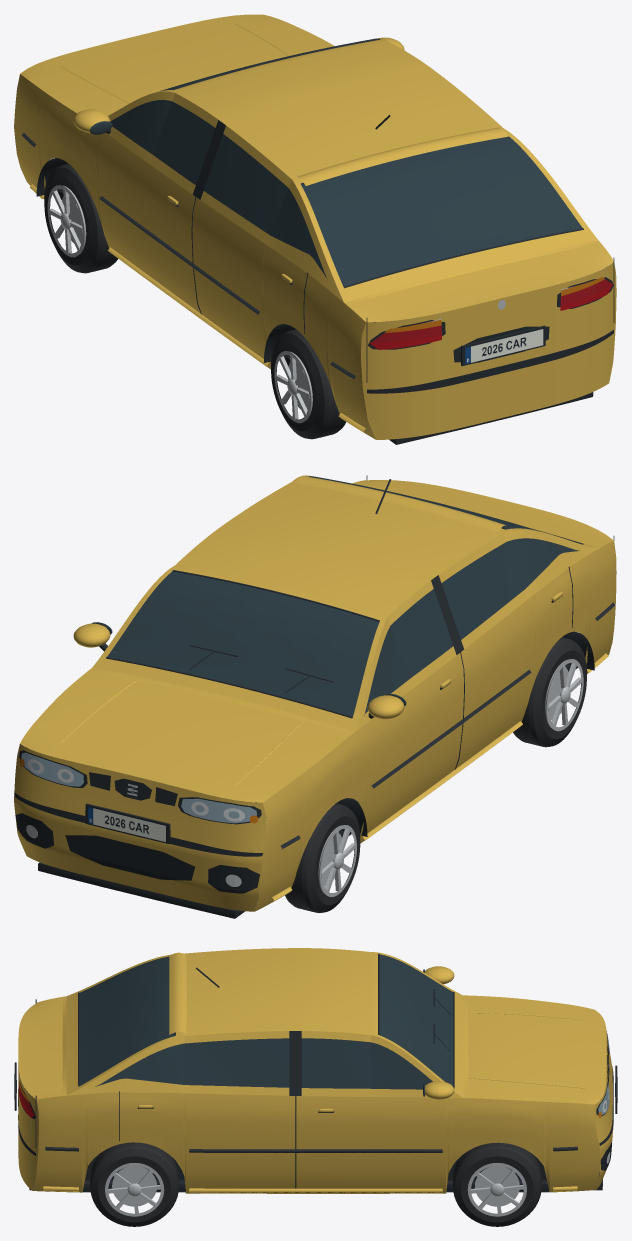
Rendered from Entrega_15_LOD0.glb.
3 views of the same model, one above another, from view 1: azimuth 30°, elevation 25°; view 2: azimuth 150°, elevation 25°; view 3: azimuth 270°, elevation 25° (orthographic). The views are drawn at different scales.
Visible parts, largest first — view 1: Body, Glass, Wheel_RL, Wheel_FL, Plates, BrakeLights, TailLights; view 2: Body, Glass, Wheel_FL, Wheel_RL, Headlights, Plates; view 3: Body, Glass, Wheel_RR, Wheel_FR.
Part boxes in pixels (box(x1,y1,x2,y2)): Body: box(14, 14, 616, 444); Glass: box(90, 38, 582, 287); Wheel_RL: box(271, 329, 345, 439); Wheel_FL: box(44, 163, 117, 273); Plates: box(465, 329, 543, 364); BrakeLights: box(370, 279, 612, 342); TailLights: box(370, 284, 612, 349); Body: box(14, 475, 616, 918); Glass: box(91, 476, 579, 717); Wheel_FL: box(285, 803, 360, 912); Wheel_RL: box(513, 637, 586, 747); Headlights: box(21, 752, 256, 886); Plates: box(88, 807, 165, 841); Body: box(14, 948, 617, 1193); Glass: box(79, 954, 453, 1096); Wheel_RR: box(90, 1142, 178, 1226); Wheel_FR: box(453, 1142, 541, 1226).
Bounding box in the file's own units: 2.08 × 1.6 × 4.18.
14 materials, 1 textured.
